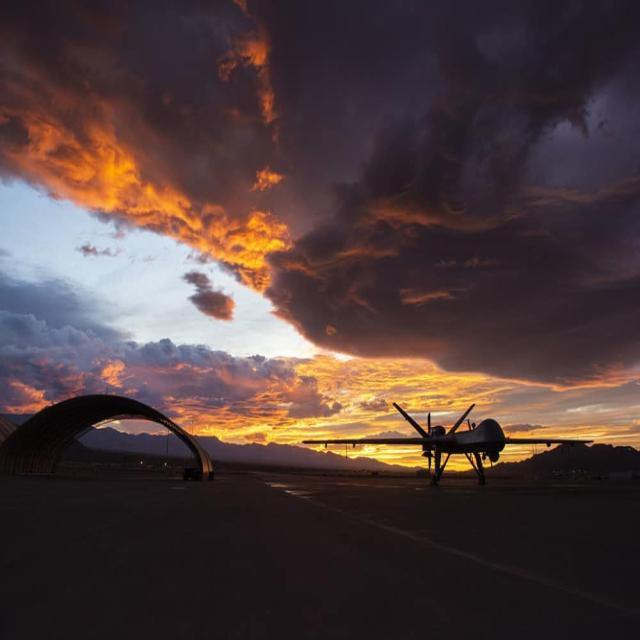MIL_Plane: (302, 402, 594, 485)
